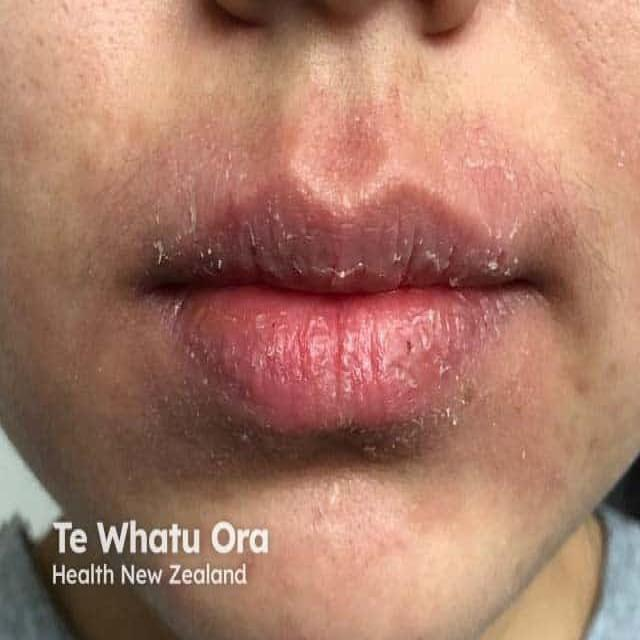Eczema: (128, 178, 508, 460)
